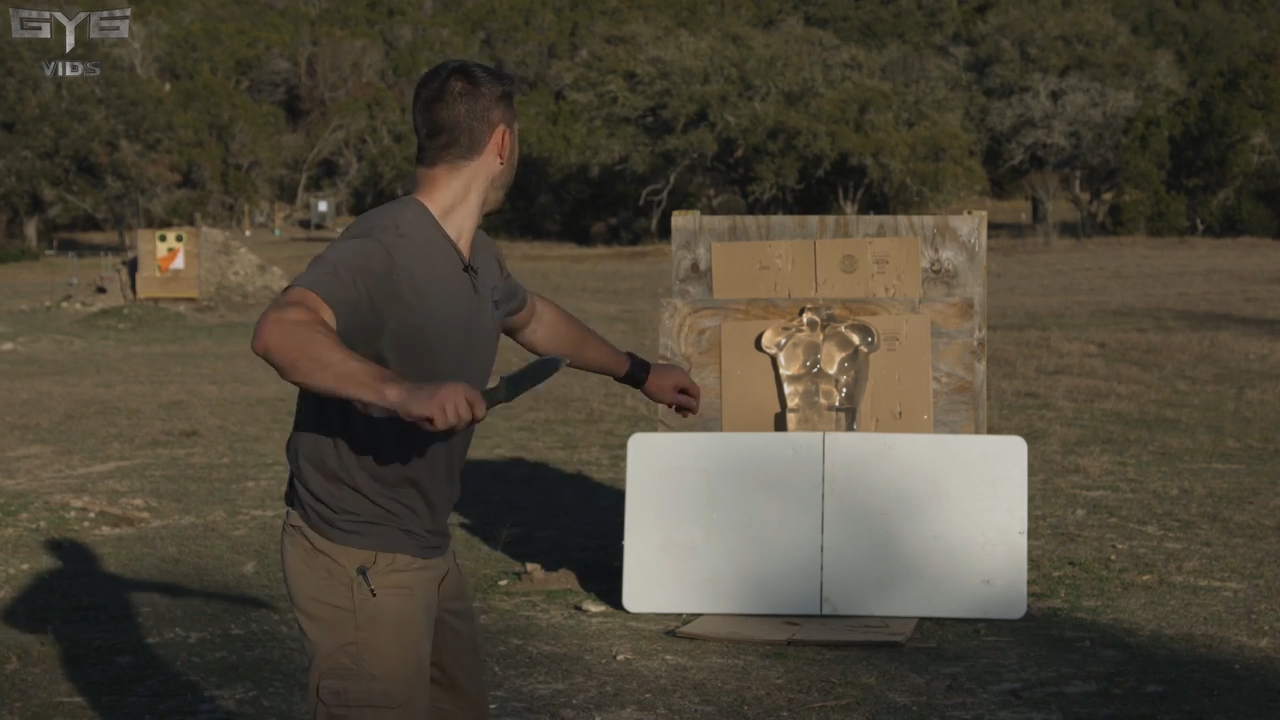knife: (414, 344, 583, 436)
